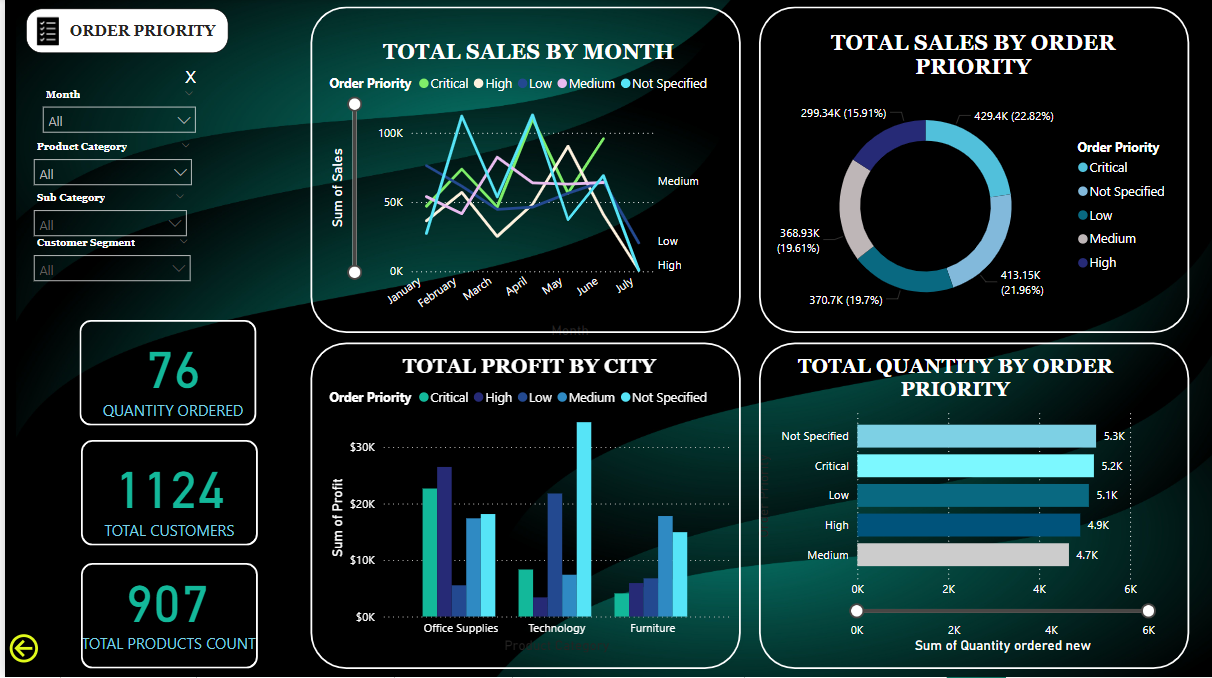

The page's visual inventory and layout, read from the dashboard file:
{"tool":"powerbi","page":{"name":"ORDER PRIORITY","canvas":[1280,720],"ordinal":5},"visuals":[{"type":"slicer","title":"month slicer","fields":{"Values":["DataSheet.Order Date.Variation.Date Hierarchy.Month"]},"box":[30.4,90.2,181.7,53.1],"z":0,"group":"g1"},{"type":"lineChart","title":"TOTAL SALES BY MONTH","fields":{"Series":["DataSheet.Order Priority"],"Y":["Sum(DataSheet.Sales)"],"Category":["DataSheet.Ship Date.Variation.Date Hierarchy.Month"]},"box":[338.6,44.3,432.9,320],"z":0},{"type":"donutChart","title":"TOTAL SALES BY ORDER PRIORITY","fields":{"Category":["DataSheet.Order Priority"],"Y":["Sum(DataSheet.Sales)"]},"box":[810,35.7,434.3,320],"z":1000},{"type":"slicer","title":"customer seg slicer","fields":{"Values":["DataSheet.Customer Segment"]},"box":[21.6,247.8,185.7,56.4],"z":1000,"group":"g1"},{"type":"slicer","title":"product cat slicer","fields":{"Values":["DataSheet.Product Category"]},"box":[21.4,146,187.7,60.9],"z":2000,"group":"g1"},{"type":"clusteredColumnChart","title":"TOTAL PROFIT BY CITY","fields":{"Series":["DataSheet.Order Priority"],"Category":["DataSheet.Product Category"],"Y":["Sum(DataSheet.Profit)"]},"box":[338.6,378.6,434.3,320],"z":2000},{"type":"slicer","title":" sub category slicer","fields":{"Values":["DataSheet.Product Sub-Category"]},"box":[21.6,200.2,181.7,53.1],"z":3000,"group":"g1"},{"type":"barChart","title":"TOTAL QUANTITY BY ORDER PRIORITY","fields":{"Category":["DataSheet.Order Priority"],"Y":["Sum(DataSheet.Quantity ordered new)"]},"box":[790,378.6,434.3,320],"z":3000},{"type":"actionButton","title":"X Button","box":[171.1,68.6,53.3,31],"z":4000,"group":"g1"},{"type":"shape","box":[315.7,355.7,474.3,364.3],"z":4000},{"type":"shape","box":[790,355.7,474.3,364.3],"z":5000},{"type":"shape","box":[790,0,474.3,364.3],"z":6000},{"type":"shape","box":[315.7,0,474.3,364.3],"z":7000},{"type":"card","fields":{"Values":["Count(DataSheet.Quantity ordered new)"]},"box":[80,344.4,196.7,105.6],"z":8000},{"type":"card","fields":{"Values":["Count(DataSheet.Customer Name)"]},"box":[75.6,472.2,195.6,105.6],"z":9000},{"type":"card","fields":{"Values":["Count(DataSheet.Product Name)"]},"box":[66.7,591.1,208.9,107.8],"z":10000},{"type":"shape","box":[70,332.2,205.6,130],"z":11000},{"type":"shape","box":[71.1,460,205.6,130],"z":12000},{"type":"shape","box":[71.1,590,205.6,130],"z":13000},{"type":"group","id":"g1","title":"Filter","box":[21.4,68.6,202.9,235.7],"z":14000},{"type":"textbox","box":[21.8,10.9,214.5,47.3],"z":15000},{"type":"image","box":[23.6,13.6,42.7,41.8],"z":16000},{"type":"actionButton","box":[0,668.9,100,40],"z":17000}]}

Visuals, with their boxes in screenshot pixels (x1, y1, x2, y2), scaled from the page's 1280x720 canvas onto the 1212x678 screenshot:
"month slicer" slicer: <region>29, 85, 201, 135</region>
"TOTAL SALES BY MONTH" lineChart: <region>321, 42, 731, 343</region>
"TOTAL SALES BY ORDER PRIORITY" donutChart: <region>767, 34, 1178, 335</region>
"customer seg slicer" slicer: <region>20, 233, 196, 286</region>
"product cat slicer" slicer: <region>20, 137, 198, 195</region>
"TOTAL PROFIT BY CITY" clusteredColumnChart: <region>321, 357, 732, 658</region>
" sub category slicer" slicer: <region>20, 189, 192, 239</region>
"TOTAL QUANTITY BY ORDER PRIORITY" barChart: <region>748, 357, 1159, 658</region>
"X Button" actionButton: <region>162, 65, 212, 94</region>
shape: <region>299, 335, 748, 677</region>
shape: <region>748, 335, 1197, 677</region>
shape: <region>748, 0, 1197, 343</region>
shape: <region>299, 0, 748, 343</region>
card - Count(DataSheet.Quantity ordered new): <region>76, 324, 262, 424</region>
card - Count(DataSheet.Customer Name): <region>72, 445, 257, 544</region>
card - Count(DataSheet.Product Name): <region>63, 557, 261, 658</region>
shape: <region>66, 313, 261, 435</region>
shape: <region>67, 433, 262, 556</region>
shape: <region>67, 556, 262, 677</region>
"Filter" group: <region>20, 65, 212, 287</region>
textbox: <region>21, 10, 224, 55</region>
image: <region>22, 13, 63, 52</region>
actionButton: <region>0, 630, 95, 668</region>
